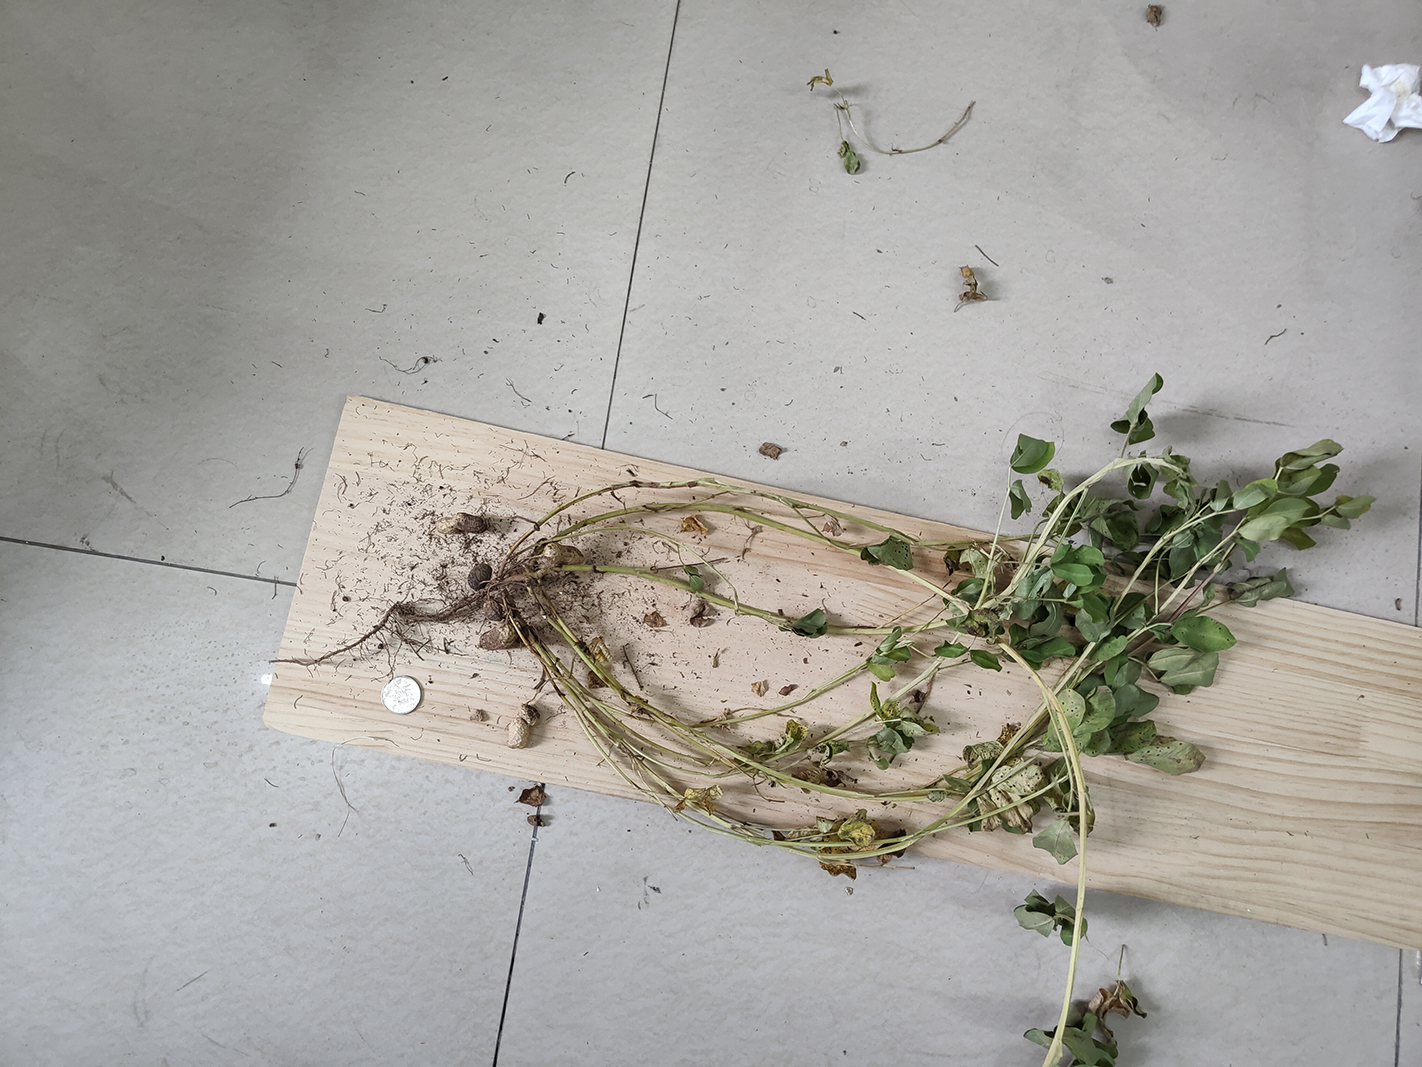h: (506, 705, 539, 748), (542, 542, 584, 566)
l: (478, 621, 522, 650), (437, 512, 485, 535), (467, 562, 491, 590), (483, 600, 502, 620)
